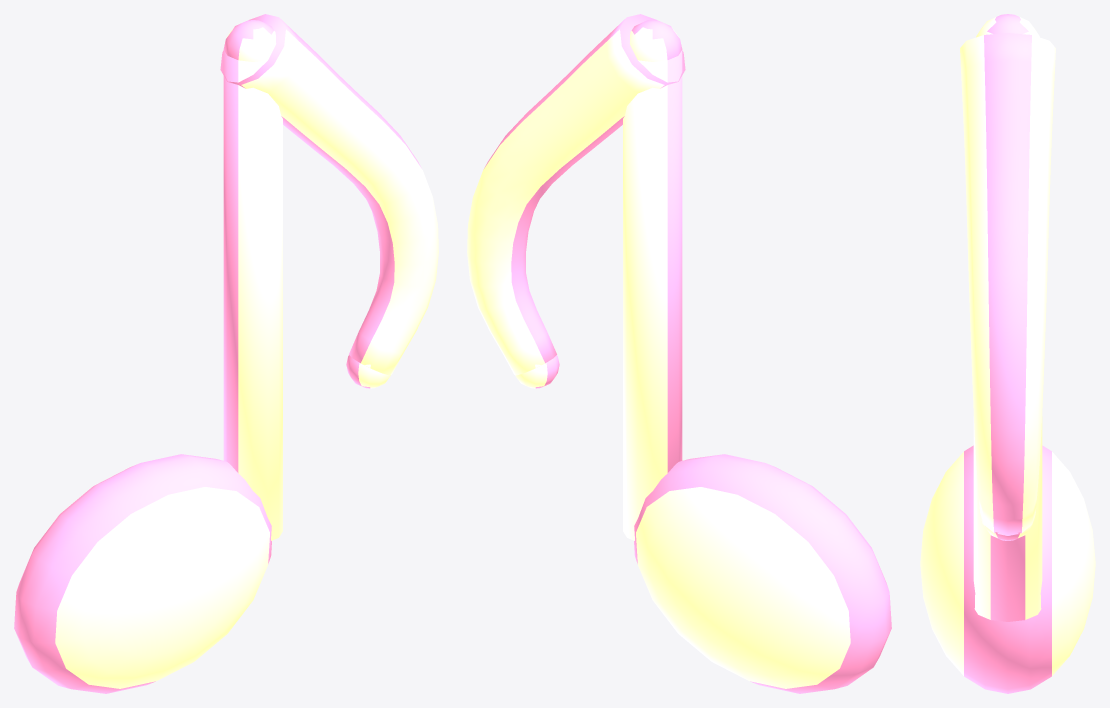
The model's file is nota-colcheia.glb.
The picture shows the model from 3 angles, left to right: view 1: azimuth 30°, elevation 25°; view 2: azimuth 150°, elevation 25°; view 3: azimuth 270°, elevation 25°; orthographic projection. The views are drawn at different scales.
Parts seen in each view (by area): view 1: nota-colcheia; view 2: nota-colcheia; view 3: nota-colcheia.
Part boxes in pixels (x1,y1,x2,y2): nota-colcheia: (14, 14, 438, 693); nota-colcheia: (467, 14, 891, 693); nota-colcheia: (920, 14, 1095, 693).
Size of the model in its own units: 0.11 by 0.1596 by 0.0347.
